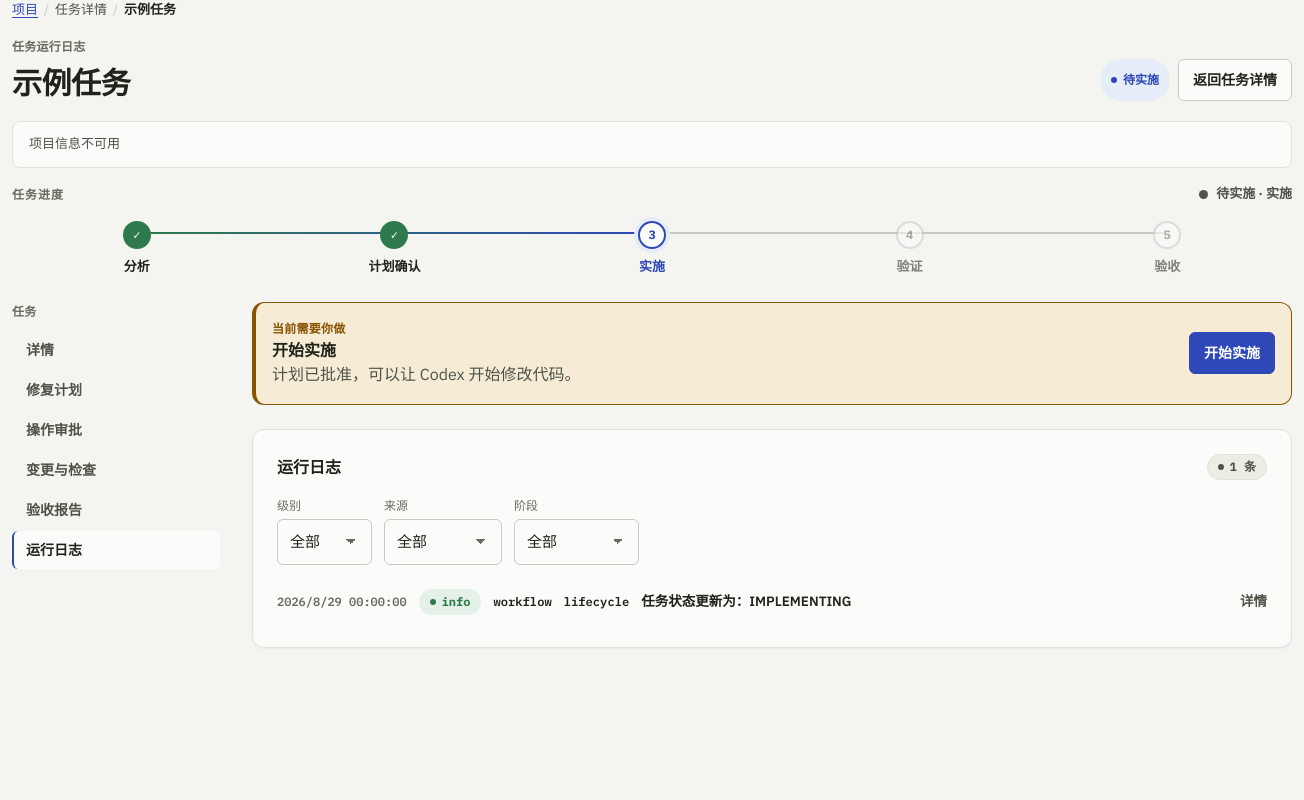
Test: TaskLogsPage › renders logs and expands raw details
Check: the text "任务状态更新为：IMPLEMENTING" is shown, box left=641, top=592, right=852, bottom=610
Check: the heading "运行日志" is shown, box left=277, top=457, right=341, bottom=477
Click the button "任务状态更新为：IMPLEMENTING" at (772, 602), box left=277, top=581, right=1267, bottom=623
(page scrolled)
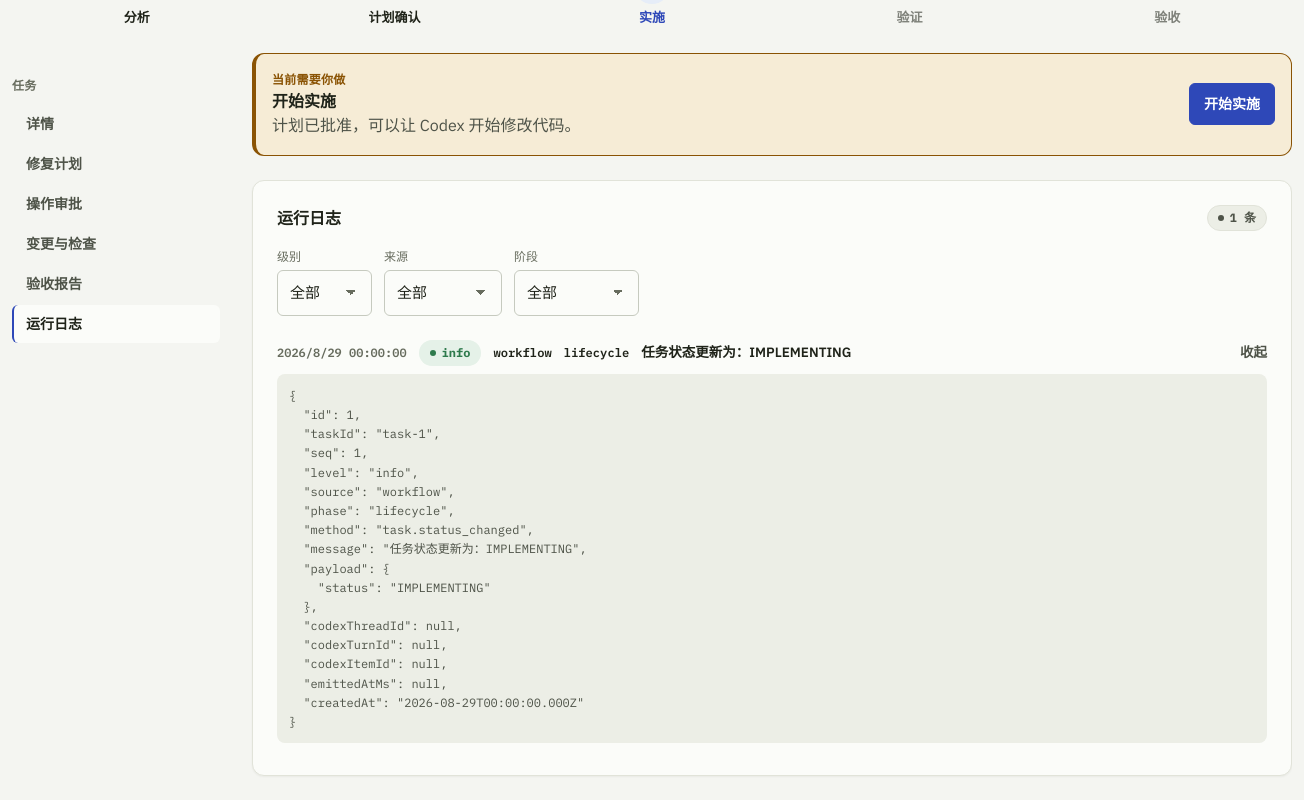
Check: the text "\"payload\"" is shown, box left=289, top=388, right=587, bottom=729
